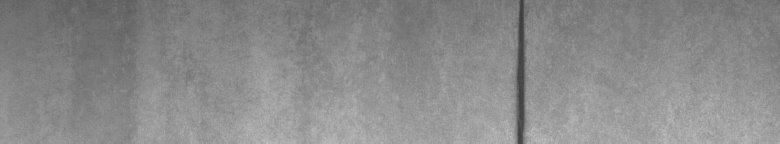hd: (506, 4, 535, 136)
